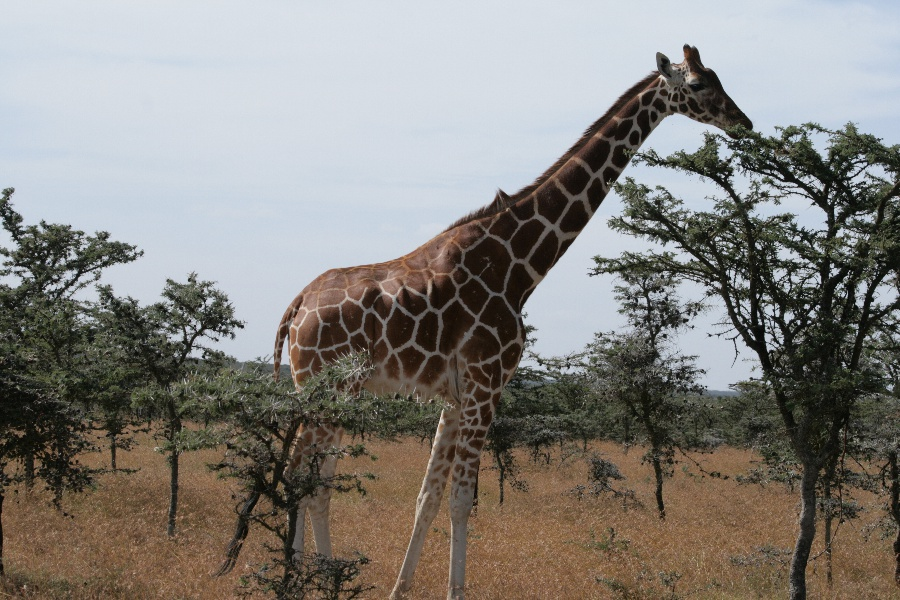giraffe: (253, 34, 758, 597)
